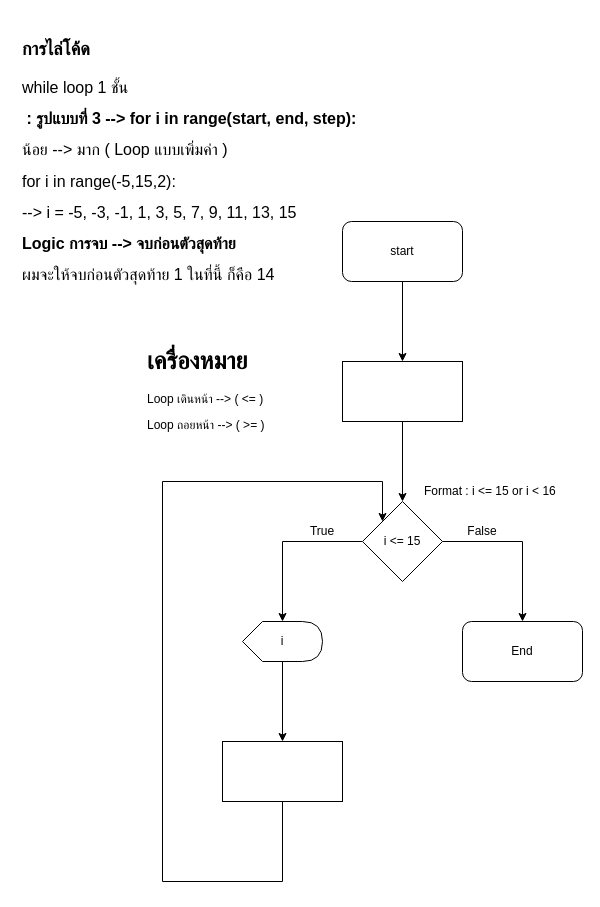
Some shapes in this 600 by 907 pixel diagram are drawn without their labels. Each missing label, with the centre of its shape:
"i += 2" goes at pixel 282 771.
"i = -5" goes at pixel 402 391.
